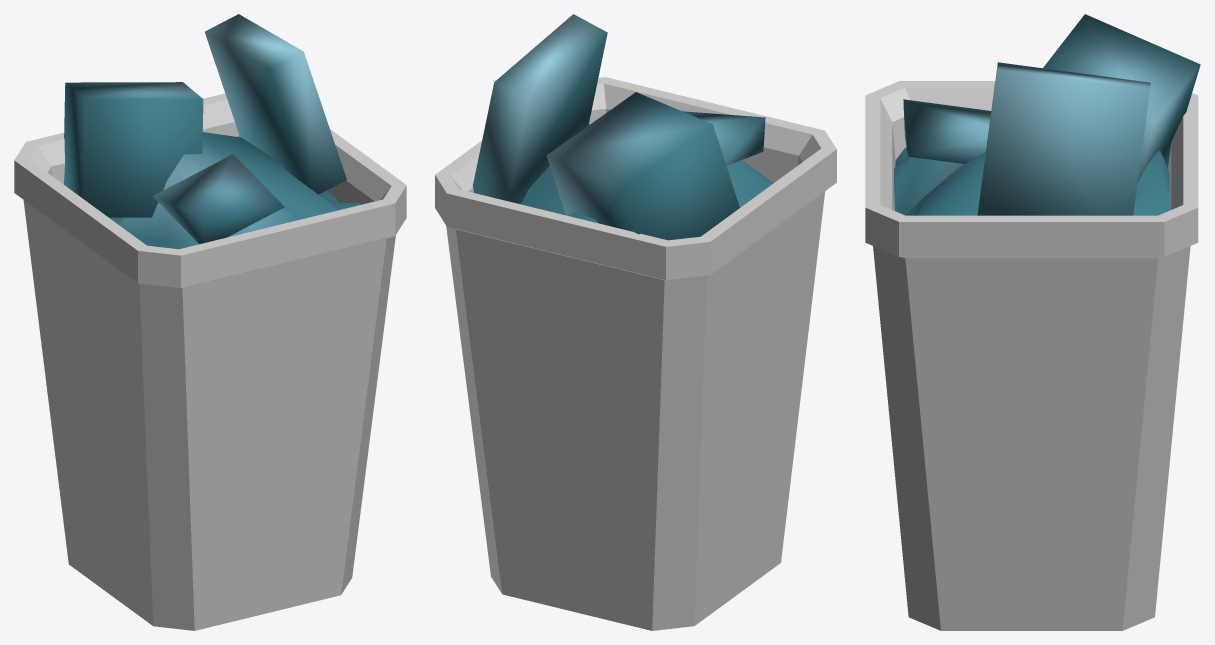
The model's file is SM_TrashBIn_Blue.fbx.
3 views of the same model, side by side, from view 1: azimuth 30°, elevation 25°; view 2: azimuth 150°, elevation 25°; view 3: azimuth 270°, elevation 25° (orthographic). The views are drawn at different scales.
Parts seen in each view (by area): view 1: SM_Bin_Blue, SM_Trash_Blue; view 2: SM_Bin_Blue, SM_Trash_Blue; view 3: SM_Bin_Blue, SM_Trash_Blue.
Boxes of the visible parts, x1,y1,x2,y2 form: SM_Bin_Blue: [14, 93, 406, 630]; SM_Trash_Blue: [64, 14, 361, 249]; SM_Bin_Blue: [435, 77, 836, 630]; SM_Trash_Blue: [472, 14, 773, 240]; SM_Bin_Blue: [865, 81, 1198, 630]; SM_Trash_Blue: [894, 14, 1200, 215].
Bounding box in the file's own units: 71.13 × 130 × 71.64.
